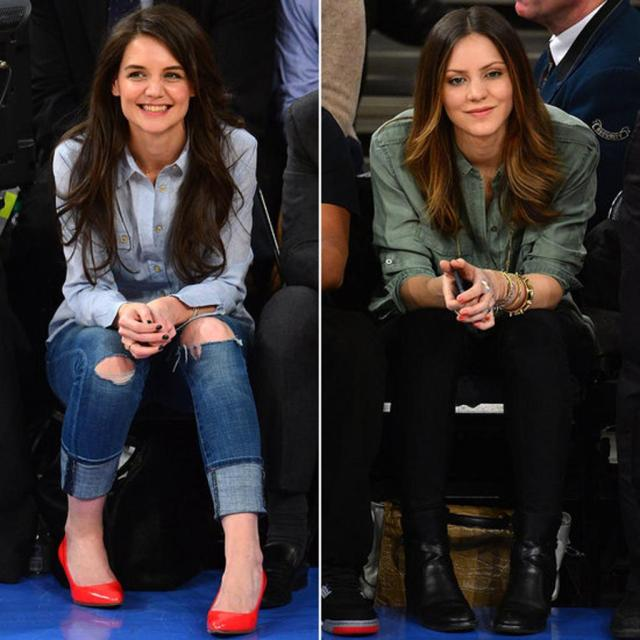Face: (118, 35, 194, 140), (444, 38, 519, 138)
